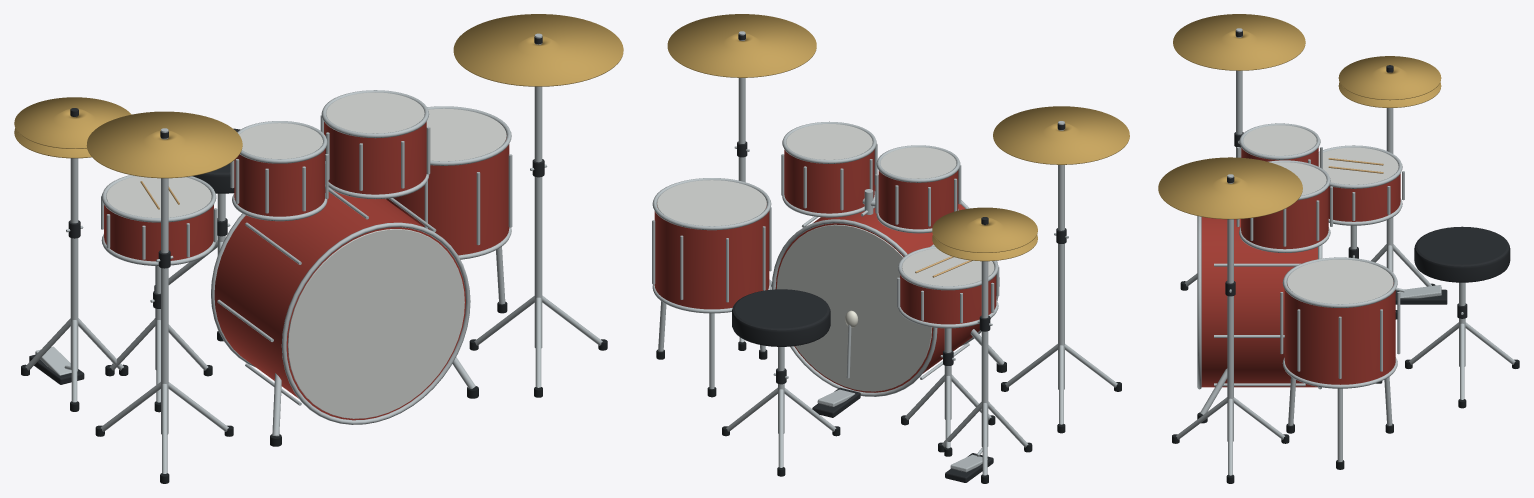
Rendered from city-compact-drum-set.glb.
3 views of the same model, side by side, from view 1: azimuth 30°, elevation 25°; view 2: azimuth 150°, elevation 25°; view 3: azimuth 270°, elevation 25° (orthographic). The views are drawn at different scales.
Parts seen in each view (by area): view 1: Assembly | Plain opaque drum heads, Assembly | Muted red drum shell, Assembly | Satin plated fittings, Assembly | Warm brushed cymbal metal, Assembly | Black instrument finish, Assembly | Dark rubber pads; view 2: Assembly | Plain opaque drum heads, Assembly | Muted red drum shell, Assembly | Satin plated fittings, Assembly | Warm brushed cymbal metal, Assembly | Black instrument finish, Assembly | Dark rubber pads; view 3: Assembly | Muted red drum shell, Assembly | Warm brushed cymbal metal, Assembly | Satin plated fittings, Assembly | Plain opaque drum heads, Assembly | Black instrument finish, Assembly | Dark rubber pads.
Boxes of the visible parts, box(x1,y1,x2,y2) form: Assembly | Plain opaque drum heads: box(106, 92, 506, 418); Assembly | Muted red drum shell: box(104, 122, 509, 420); Assembly | Satin plated fittings: box(25, 33, 602, 473); Assembly | Warm brushed cymbal metal: box(14, 14, 623, 178); Assembly | Black instrument finish: box(29, 36, 544, 384); Assembly | Dark rubber pads: box(21, 285, 607, 483); Assembly | Plain opaque drum heads: box(657, 124, 994, 391); Assembly | Muted red drum shell: box(654, 149, 996, 392); Assembly | Satin plated fittings: box(652, 31, 1117, 475); Assembly | Warm brushed cymbal metal: box(667, 14, 1129, 261); Assembly | Black instrument finish: box(732, 34, 1066, 482); Assembly | Dark rubber pads: box(656, 341, 1121, 483); Assembly | Muted red drum shell: box(1201, 148, 1400, 387); Assembly | Warm brushed cymbal metal: box(1158, 14, 1441, 219); Assembly | Satin plated fittings: box(1176, 28, 1515, 475); Assembly | Plain opaque drum heads: box(1243, 125, 1398, 304); Assembly | Black instrument finish: box(1225, 31, 1510, 383); Assembly | Dark rubber pads: box(1172, 281, 1519, 483).
Size of the model in its own units: 1.66 by 1.03 by 1.2.
